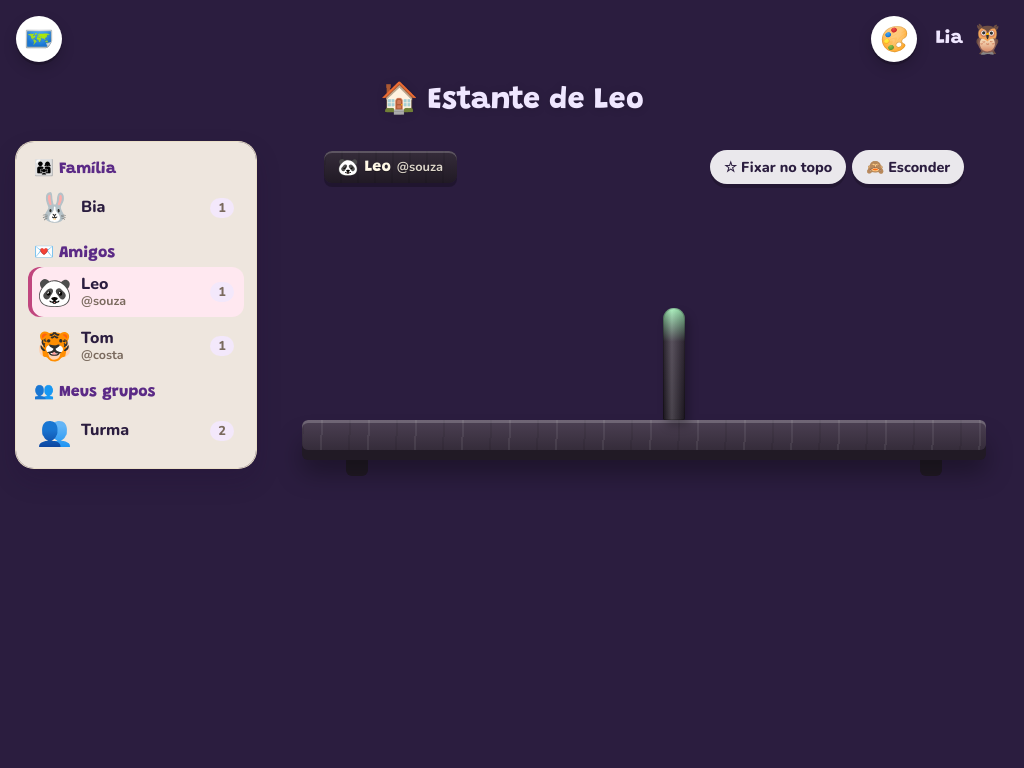
it: visitar estantes › abre um grupo com as prateleiras de todos
Click the button with aria-label "Grupo Turma" at (136, 431), box top-left (28, 406), bottom-right (244, 456)
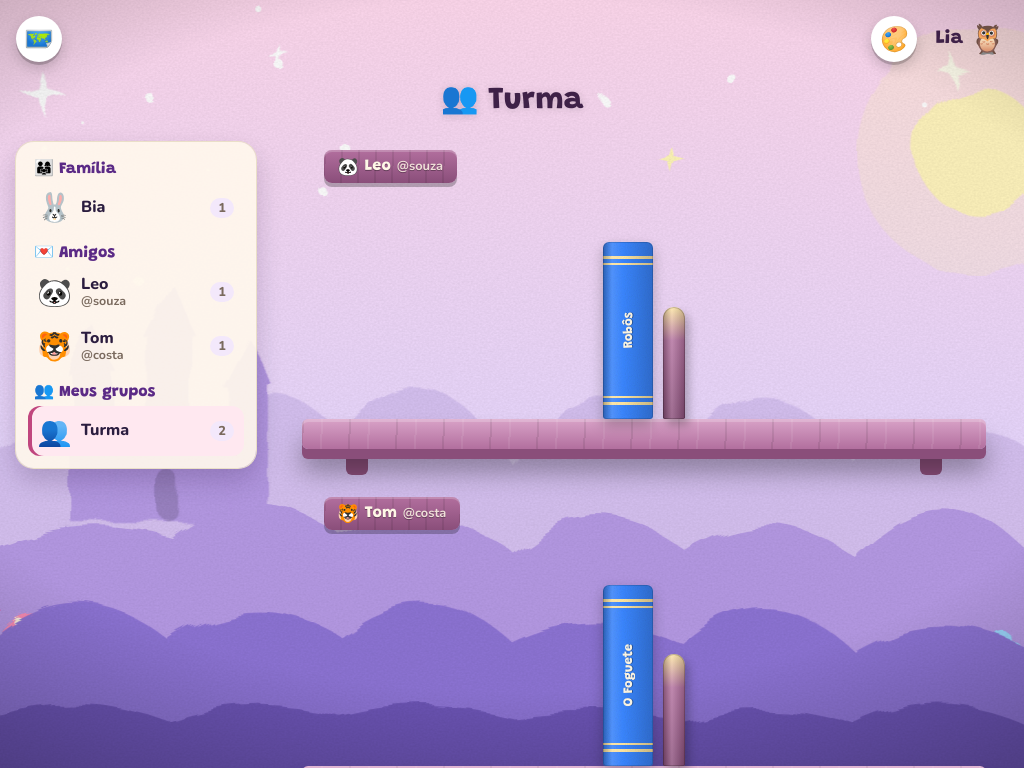
Now the heading "👥 Turma" is shown, box top-left (441, 80), bottom-right (583, 116)
Now the list named "Livros de Leo" is shown, box top-left (603, 242), bottom-right (685, 419)
Now the list named "Livros de Tom" is shown, box top-left (603, 585), bottom-right (685, 766)
